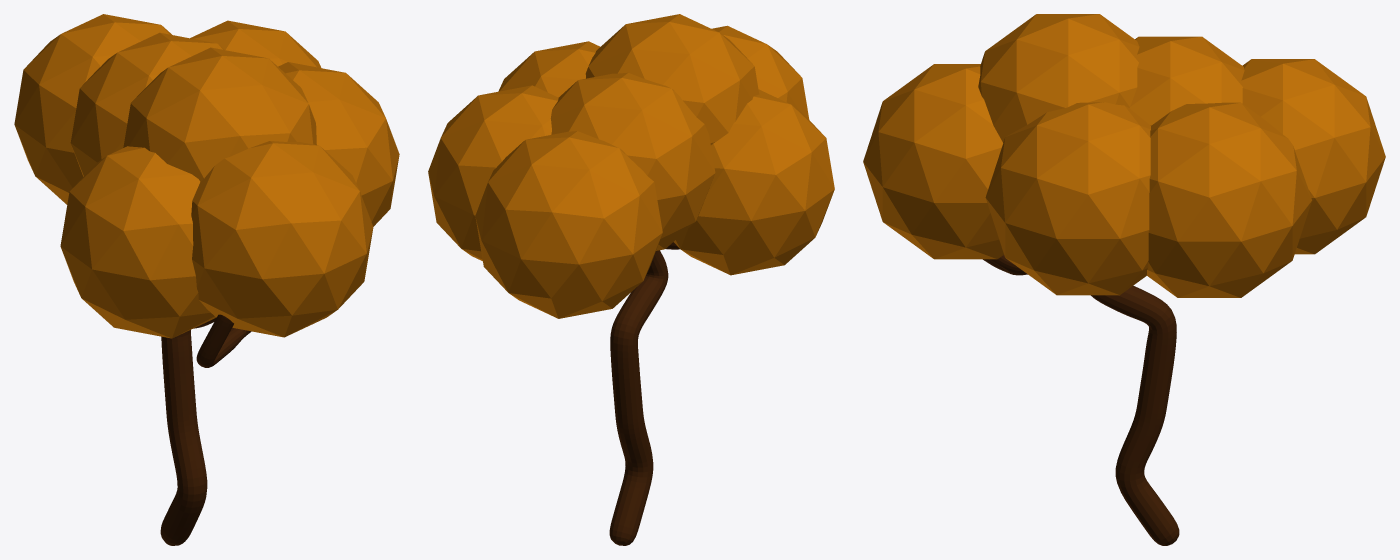
The model's file is Arbol.fbx.
3 views of the same model, side by side, from view 1: azimuth 30°, elevation 25°; view 2: azimuth 150°, elevation 25°; view 3: azimuth 270°, elevation 25° (orthographic). The views are drawn at different scales.
Visible parts, largest first — view 1: Icosphere.002, Icosphere.004, Icosphere.003, Icosphere.001, Icosphere.007, Cube, Icosphere, Icosphere.005; view 2: Icosphere.001, Icosphere.004, Icosphere, Icosphere.003, Icosphere.005, Cube, Icosphere.007, Icosphere.002; view 3: Icosphere.005, Icosphere.007, Icosphere.002, Icosphere.001, Icosphere.003, Cube, Icosphere.
Boxes of the visible parts, x1,y1,x2,y2 form: Icosphere.002: [191, 141, 373, 337]; Icosphere.004: [60, 146, 215, 338]; Icosphere.003: [123, 47, 316, 181]; Icosphere.001: [14, 14, 171, 204]; Icosphere.007: [278, 62, 399, 226]; Cube: [160, 314, 251, 545]; Icosphere: [70, 32, 224, 176]; Icosphere.005: [190, 20, 321, 68]; Icosphere.001: [475, 131, 662, 318]; Icosphere.004: [674, 89, 834, 275]; Icosphere: [550, 72, 715, 250]; Icosphere.003: [585, 14, 759, 144]; Icosphere.005: [428, 85, 558, 261]; Cube: [609, 242, 679, 545]; Icosphere.007: [498, 41, 600, 97]; Icosphere.002: [711, 25, 809, 119]; Icosphere.005: [1147, 102, 1311, 297]; Icosphere.007: [985, 102, 1150, 295]; Icosphere.002: [863, 64, 1003, 259]; Icosphere.001: [1241, 59, 1385, 254]; Icosphere.003: [978, 14, 1139, 142]; Cube: [983, 255, 1179, 545]; Icosphere: [1129, 36, 1244, 125].
Bounding box in the file's own units: 157 × 242 × 218.
